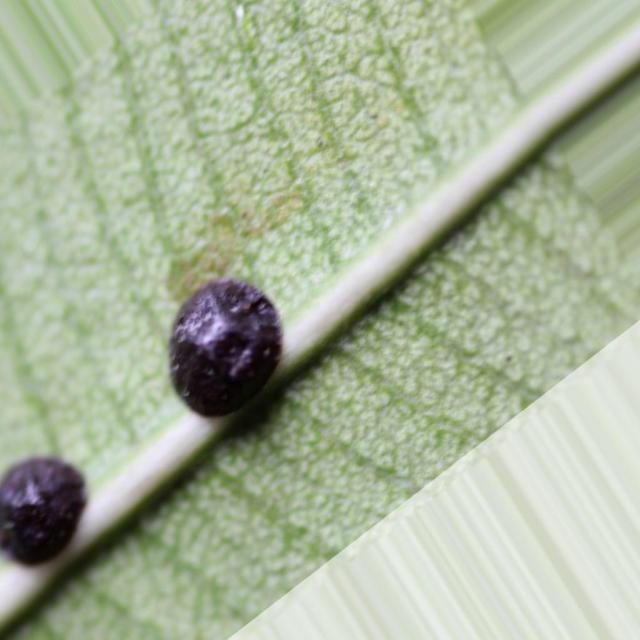Black Scale: (169, 279, 282, 419), (0, 456, 87, 565)
